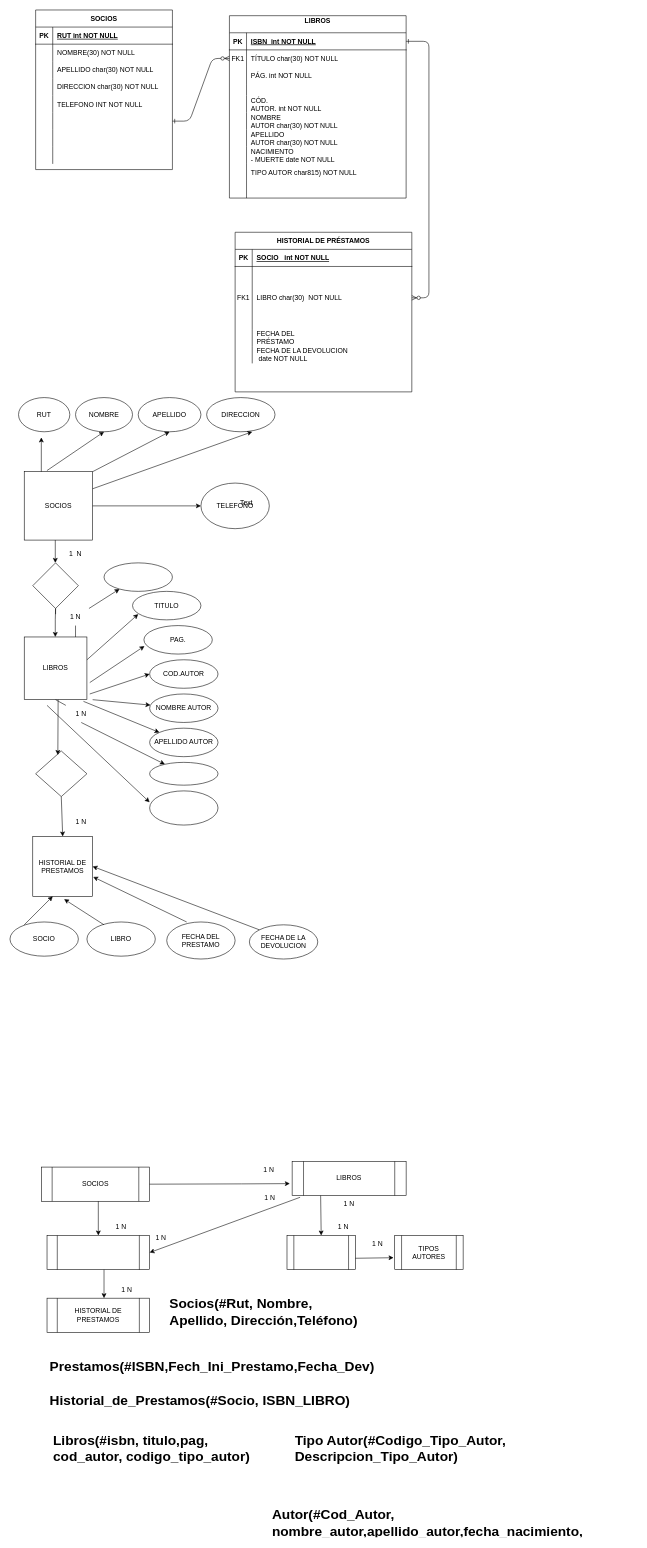
Some shapes in this 647 by 1548 pixel diagram are drawn without their labels. The shapes that lost their labels are listed below. From the top down, each one's centre as x and y in pixels, then its label:
At point 55,585: "TIENE".
At point 137,576: "ISBN".
At point 61,773: "TIENE MUCHOS".
At point 183,773: "NACIM./ MUERTE".
At point 183,807: "TIPO AUTOR".
At point 98,1252: "PRESTAMOS".
At point 320,1252: "AUTORES".
